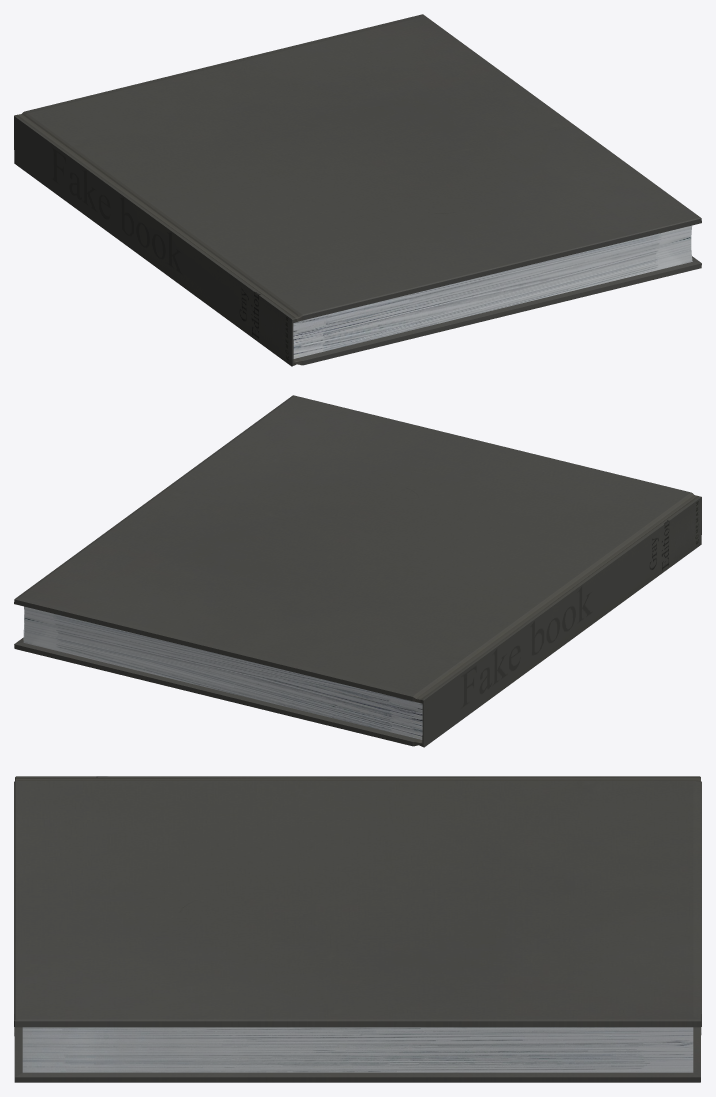
Rendered from Book.fbx.
3 views of the same model, one above another, from view 1: azimuth 30°, elevation 25°; view 2: azimuth 150°, elevation 25°; view 3: azimuth 270°, elevation 25° (orthographic). The views are drawn at different scales.
Parts seen in each view (by area): view 1: redBook_015; view 2: redBook_015; view 3: redBook_015.
Boxes of the visible parts, bbox=[...] form: redBook_015: bbox=[14, 14, 701, 366]; redBook_015: bbox=[14, 395, 701, 747]; redBook_015: bbox=[14, 776, 701, 1082].
Bounding box in the file's own units: 0.2114 × 0.0251 × 0.2493.
